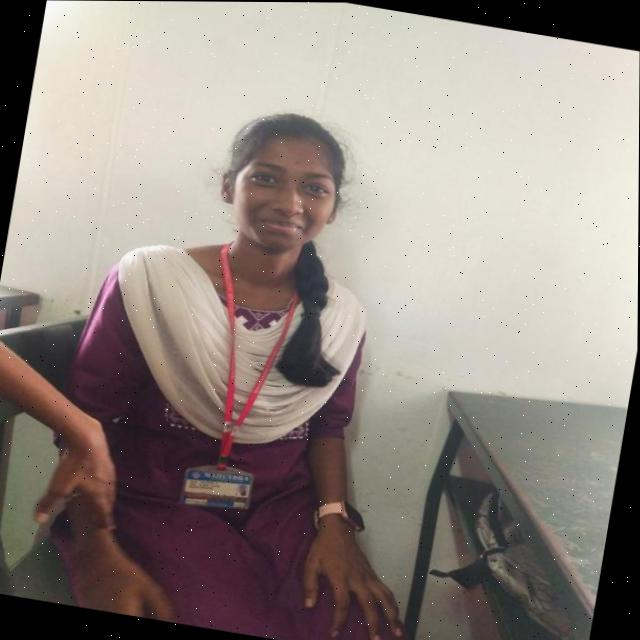id_card: (168, 242, 310, 524)
